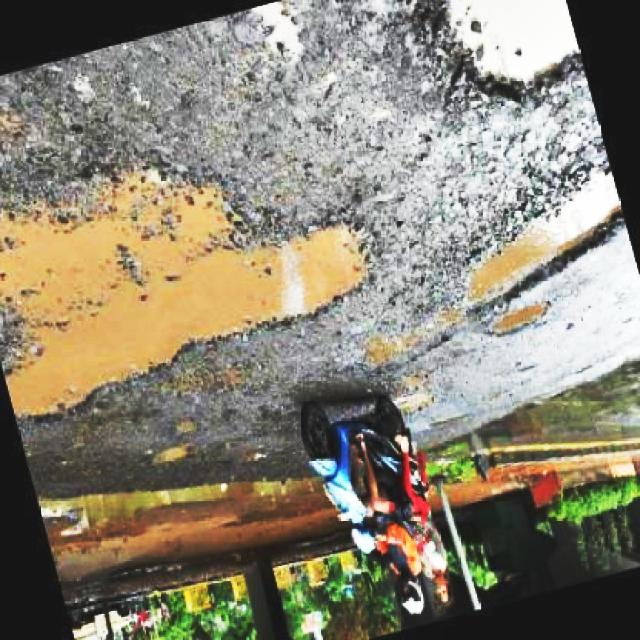pothole: (0, 168, 380, 424), (457, 162, 632, 308), (404, 0, 594, 105), (363, 308, 482, 377), (251, 3, 315, 62), (486, 295, 560, 337), (398, 385, 438, 417), (146, 443, 194, 468)
